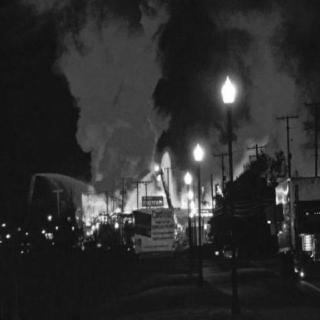Fire: (75, 157, 181, 243), (200, 177, 216, 224)
Smoke: (81, 28, 155, 146), (248, 25, 295, 117)
other: (215, 69, 241, 105)
